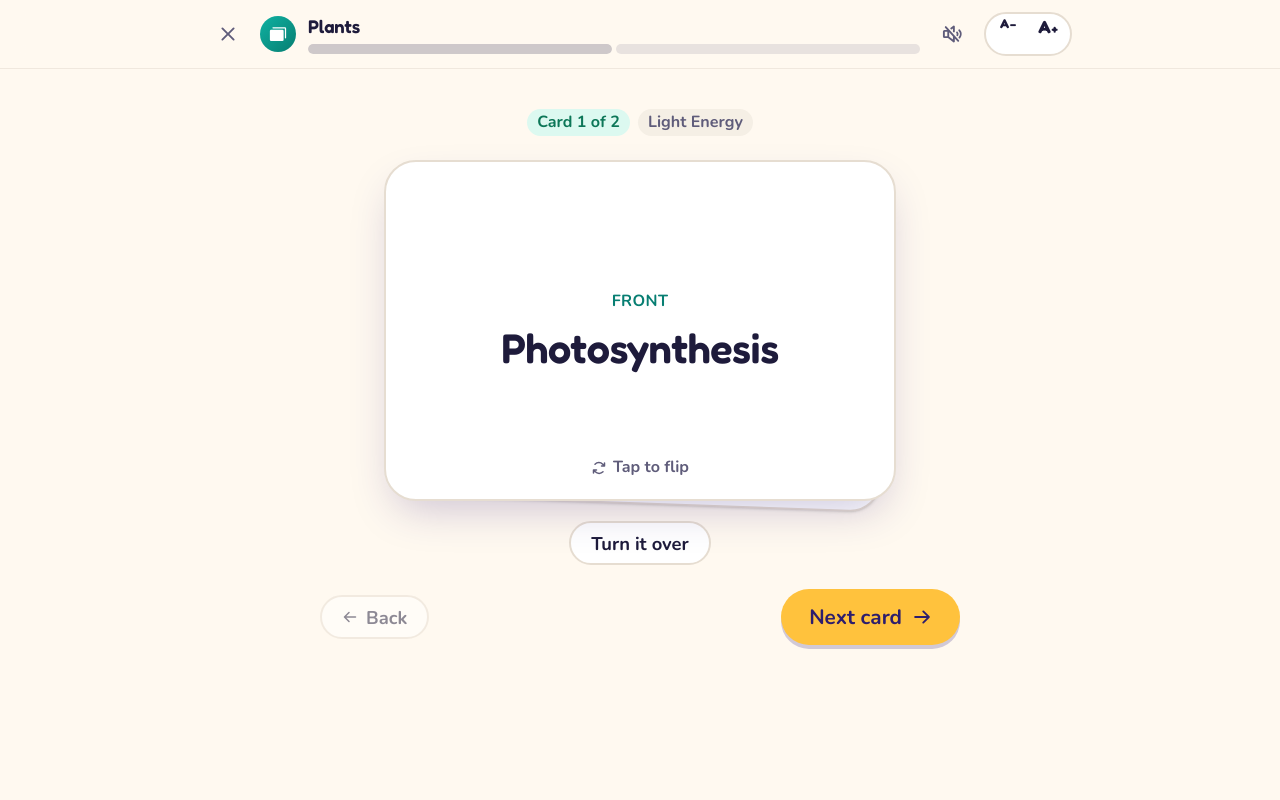
it: previewing flashcards on the student's screen › turns each card over and moves on, with nothing to mark
Check: the text "Card 1 of 2" is shown, box x1=527 y1=109 x2=630 y2=136
Step 1. Click the button "Turn it over" → {"x": 640, "y": 543}, box x1=569 y1=521 x2=711 y2=565
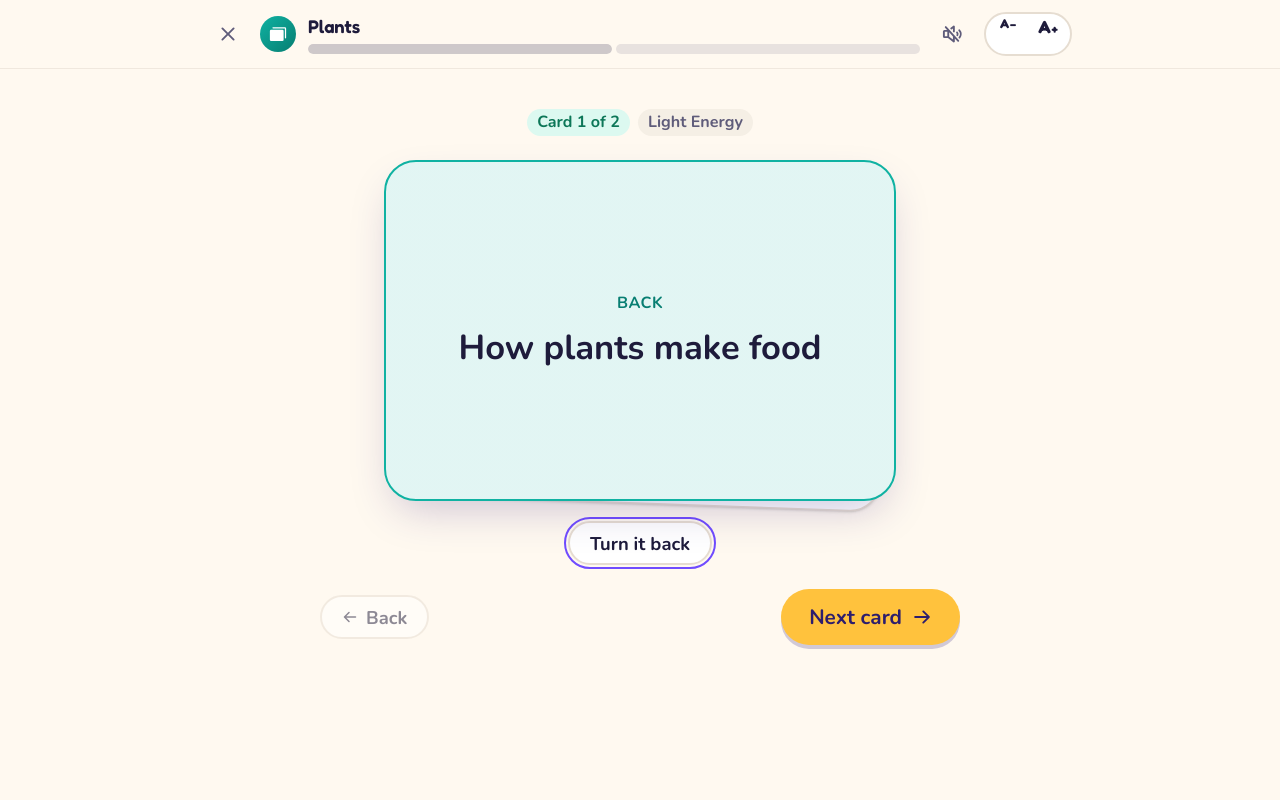
Check: the button "Turn it back" is shown, box x1=568 y1=521 x2=712 y2=565
Step 2. Click the button "Next card" → {"x": 871, "y": 617}, box x1=781 y1=589 x2=960 y2=645
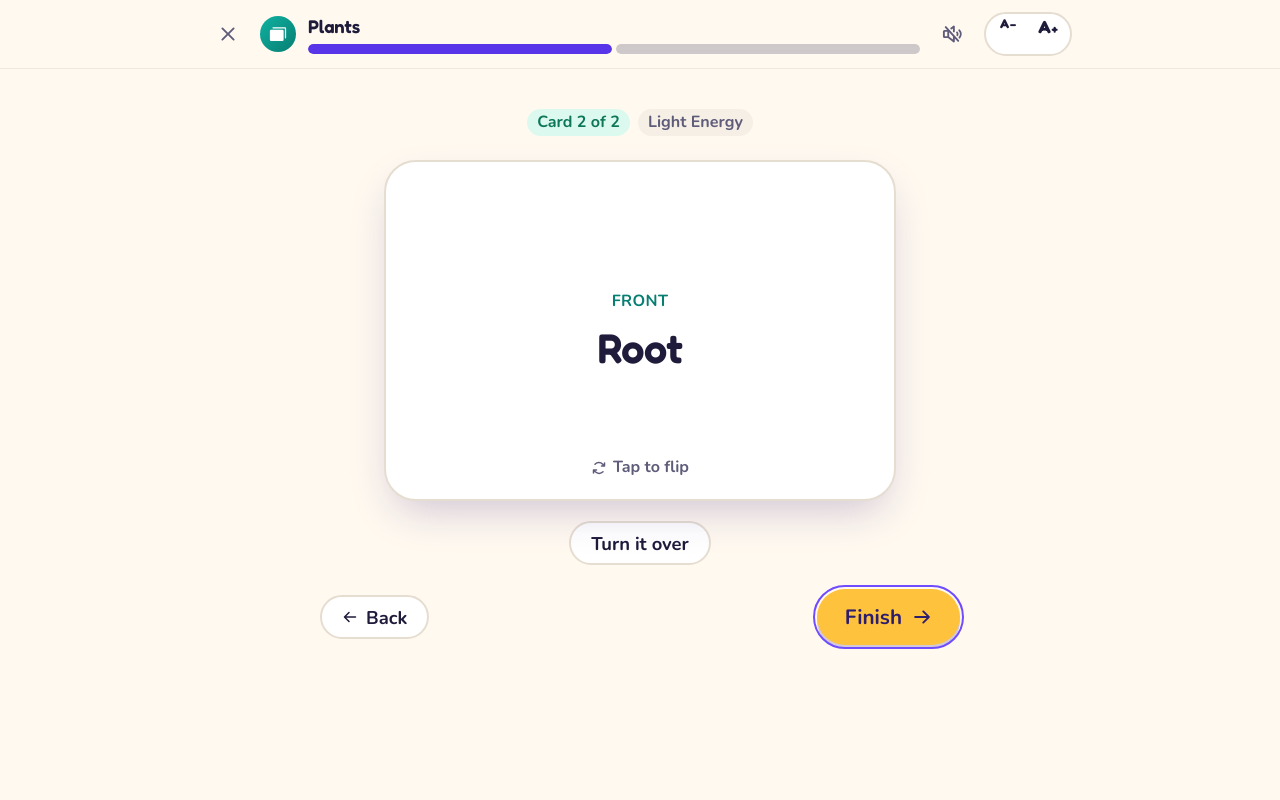
Check: the text "Card 2 of 2" is shown, box x1=527 y1=109 x2=630 y2=136
Check: the button "Turn it over" is shown, box x1=569 y1=521 x2=711 y2=565
